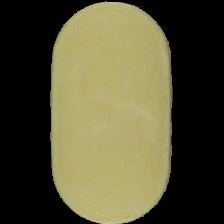63629-3296: (0, 0, 224, 224)
